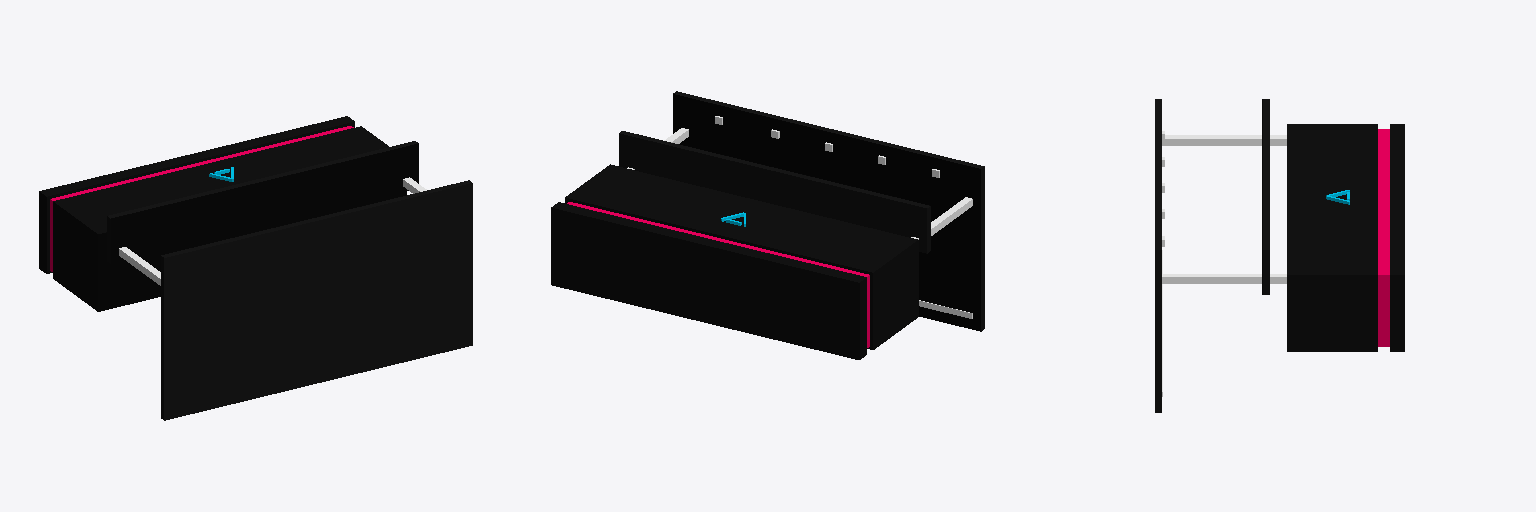
File: bar3.obj
The picture shows the model from 3 angles: view 1: azimuth 30°, elevation 25°; view 2: azimuth 150°, elevation 25°; view 3: azimuth 270°, elevation 25°; orthographic projection.
Visible parts, largest first — view 1: Object.12, Object.11, Object.1, Object.2, Object.10, Object.6, Object.3, Object.5; view 2: Object.2, Object.13, Object.1, Object.6, Object.12, Object.3, Object.5; view 3: Object.1, Object.2, Object.3, Object.12, Object.6, Object.5, Object.4.
Part boxes in pixels (x1,y1,x2,y2): Object.12: (161, 180, 472, 420); Object.11: (111, 143, 418, 263); Object.1: (53, 126, 388, 311); Object.2: (39, 116, 354, 273); Object.10: (98, 192, 406, 311); Object.6: (107, 141, 417, 263); Object.3: (50, 126, 353, 271); Object.5: (119, 247, 160, 285); Object.2: (551, 202, 866, 359); Object.13: (673, 94, 980, 331); Object.1: (565, 165, 918, 349); Object.6: (619, 131, 930, 253); Object.12: (673, 91, 984, 331); Object.3: (567, 202, 869, 347); Object.5: (911, 197, 972, 239); Object.1: (1287, 124, 1377, 351); Object.2: (1390, 124, 1404, 351); Object.3: (1378, 129, 1389, 346); Object.12: (1155, 99, 1161, 412); Object.6: (1263, 99, 1269, 294); Object.5: (1162, 135, 1286, 145); Object.4: (1162, 274, 1286, 283).
Bounding box in the file's own units: 85.42 × 43.06 × 60.09.